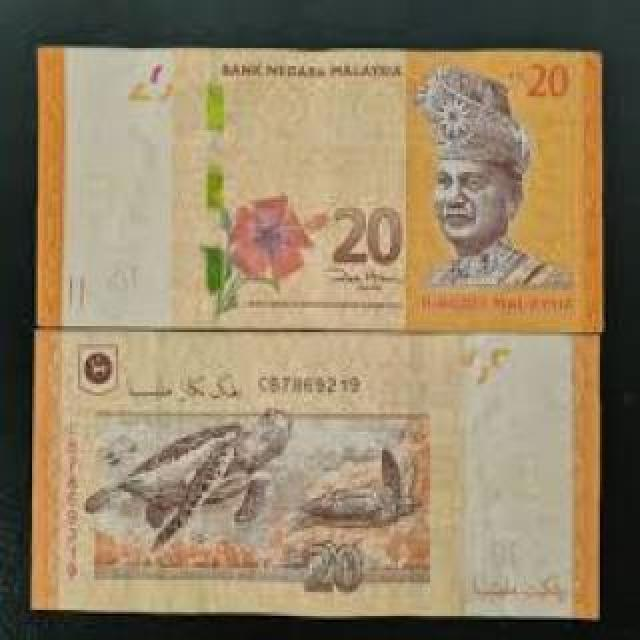20 Ringgit: (34, 336, 605, 621), (32, 52, 603, 334)
